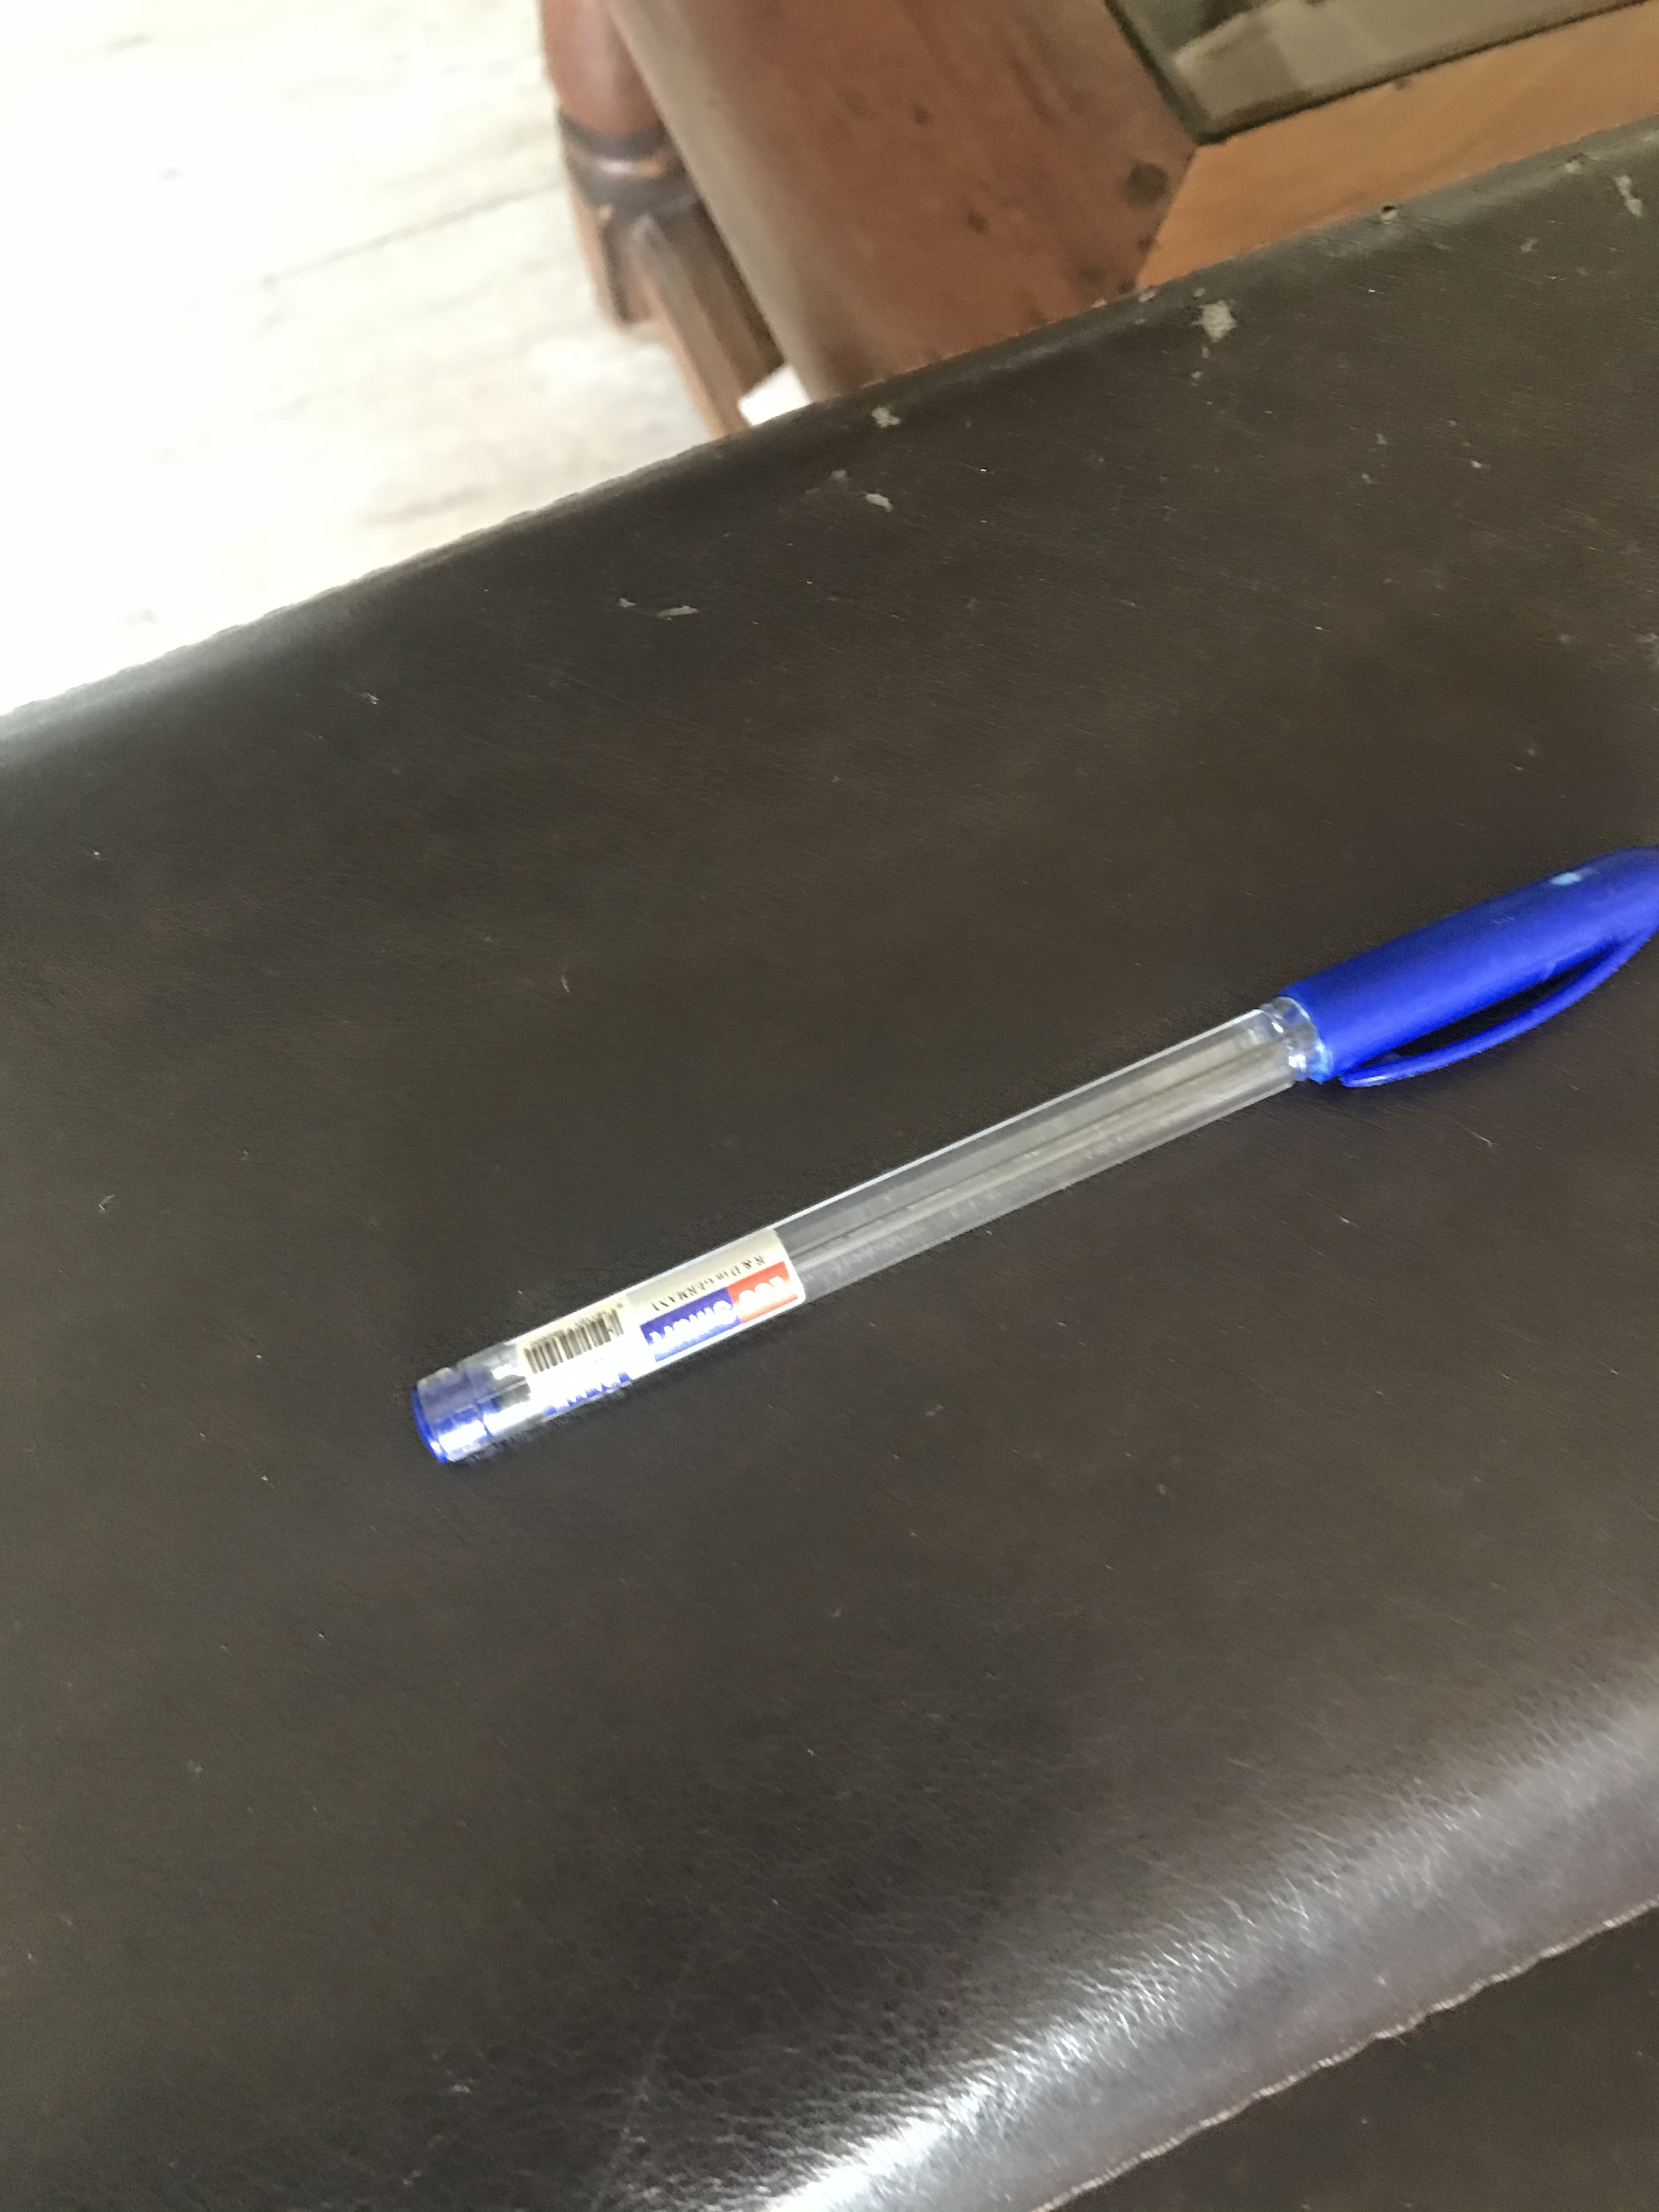lapiz: (401, 819, 1659, 1479)
